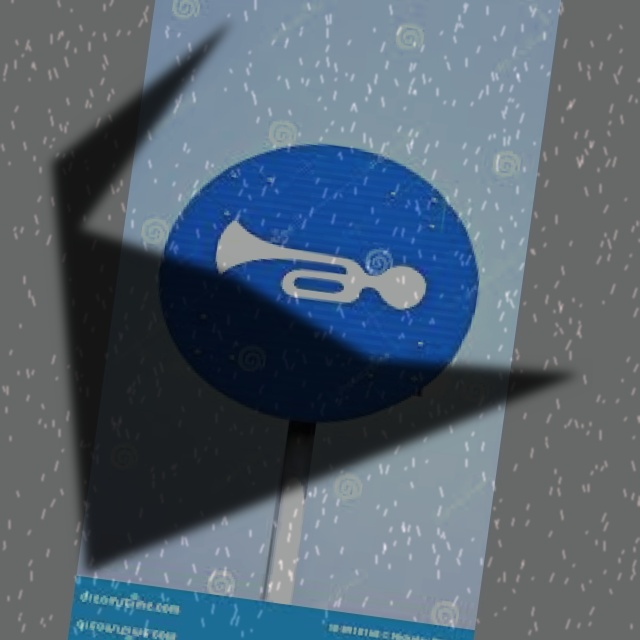Compulsory_Sound_Horn: (143, 120, 496, 436)
